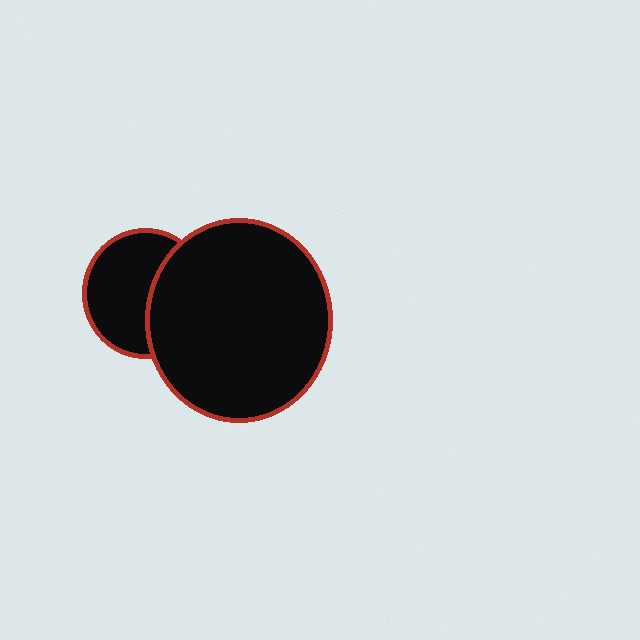open_manhole: (145, 218, 332, 422), (82, 228, 208, 358)
